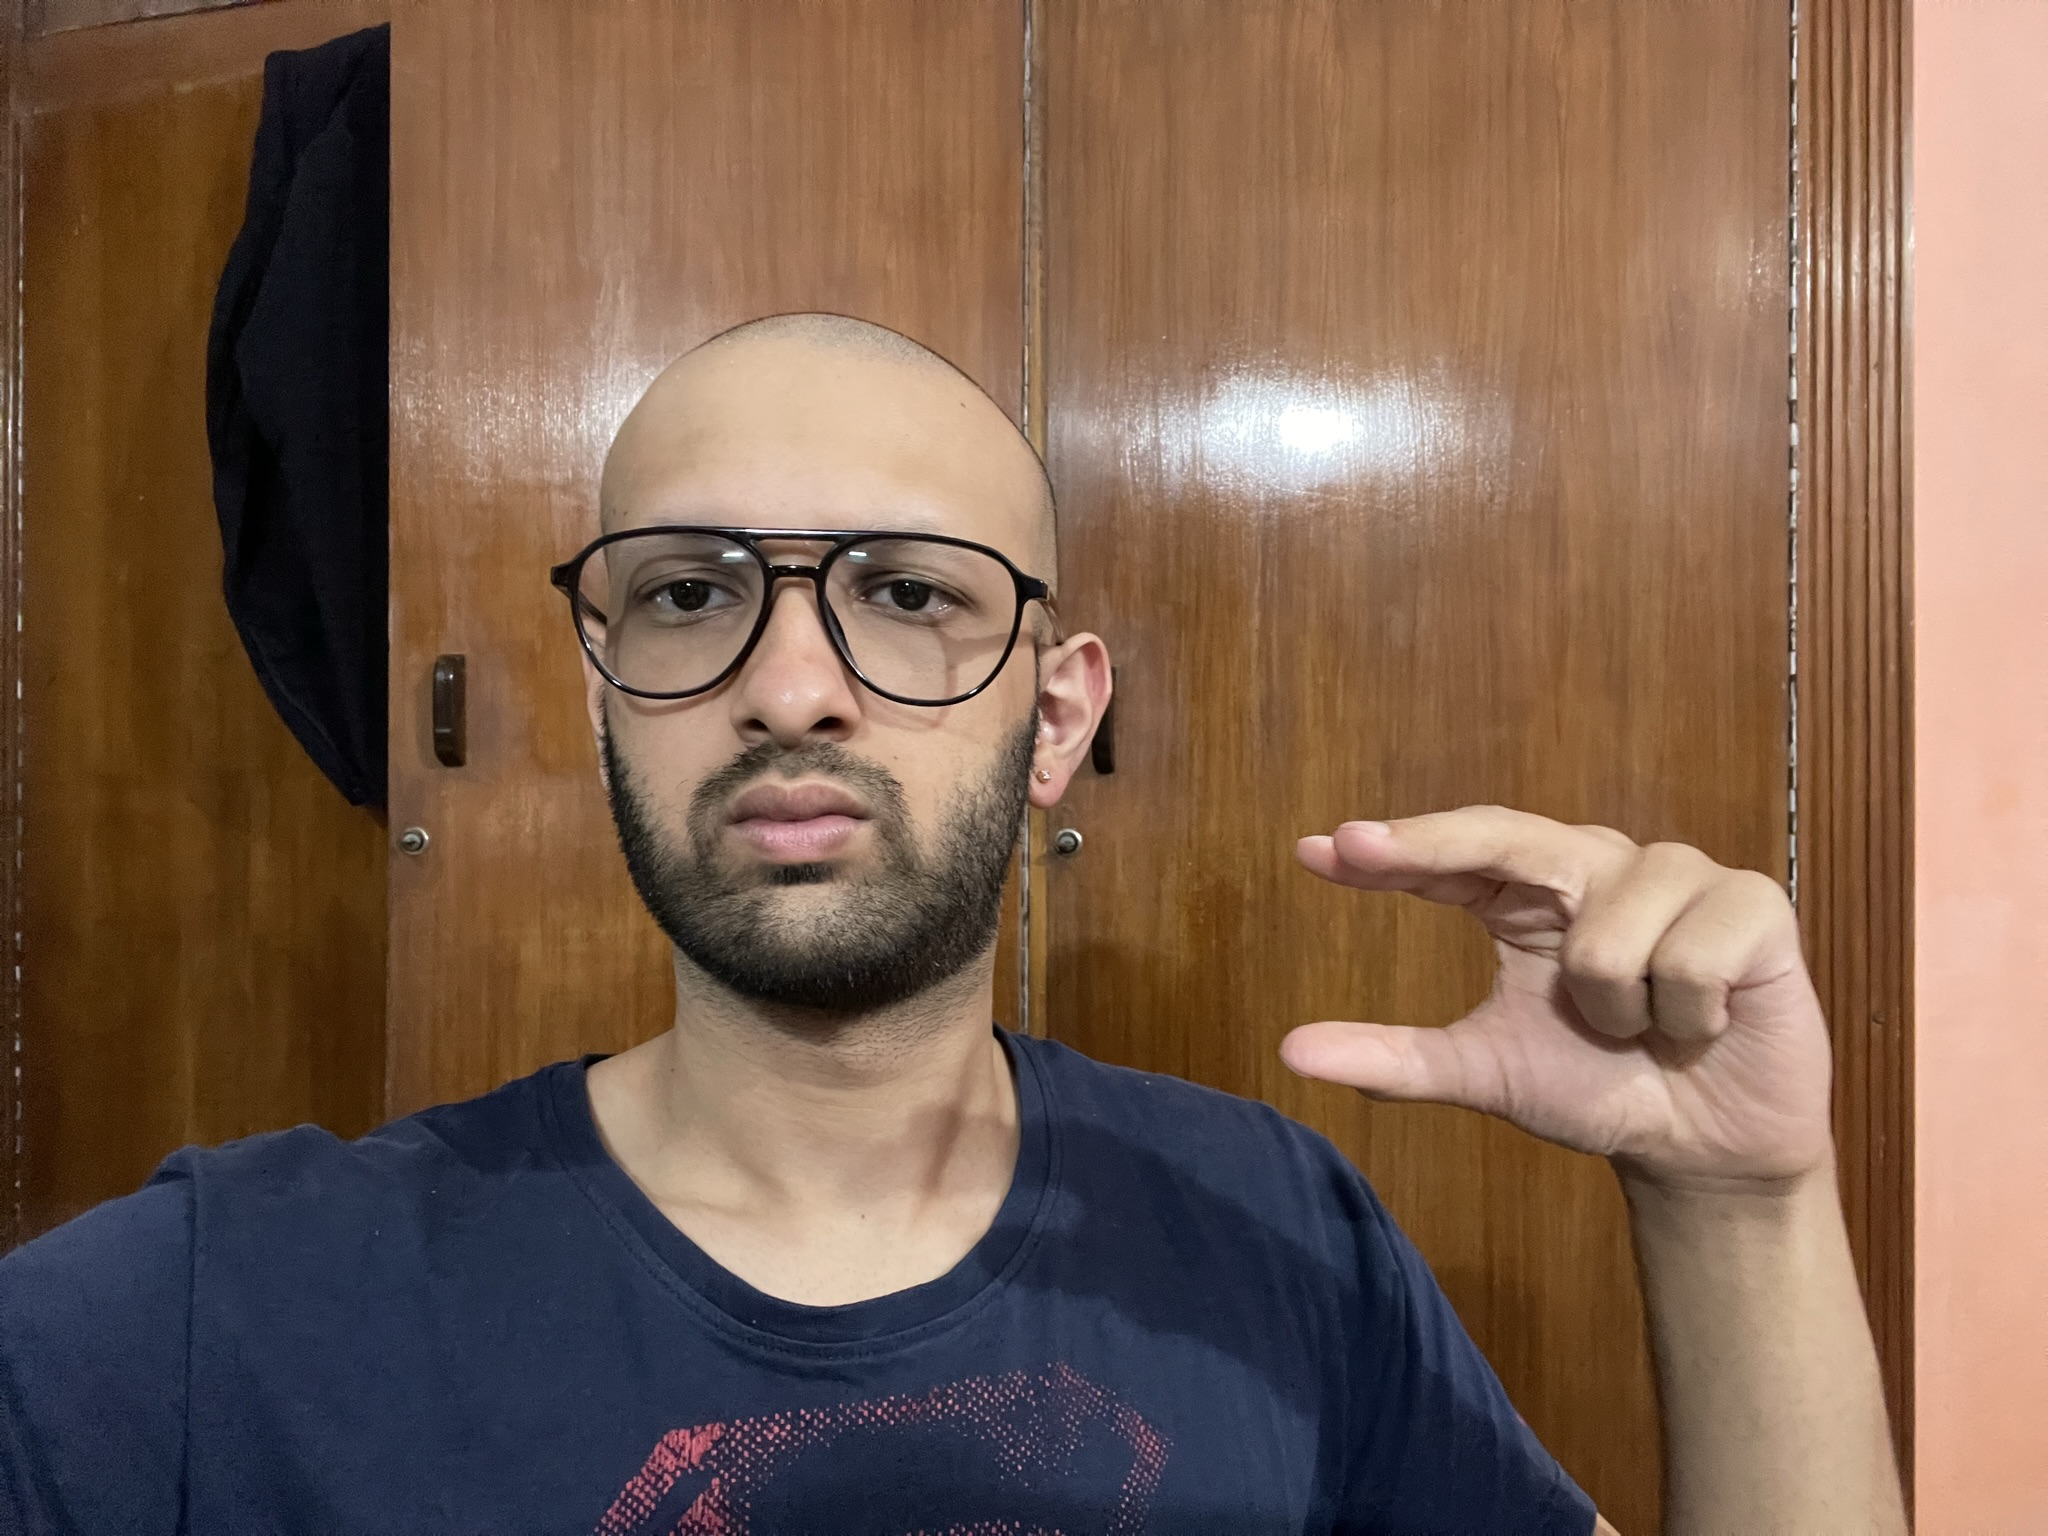No: (1274, 795, 1838, 1204)
